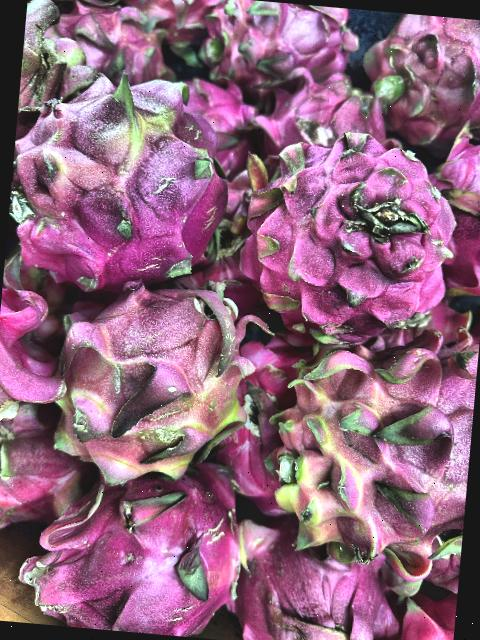buah-naga-belum-matang: (260, 333, 478, 574), (5, 82, 238, 280), (36, 281, 262, 480)
buah-naga-matang: (234, 118, 452, 350), (12, 468, 249, 640), (223, 507, 411, 640), (355, 9, 480, 139), (41, 0, 179, 98), (193, 0, 353, 82), (255, 66, 396, 155), (15, 0, 99, 136), (423, 123, 480, 297)
